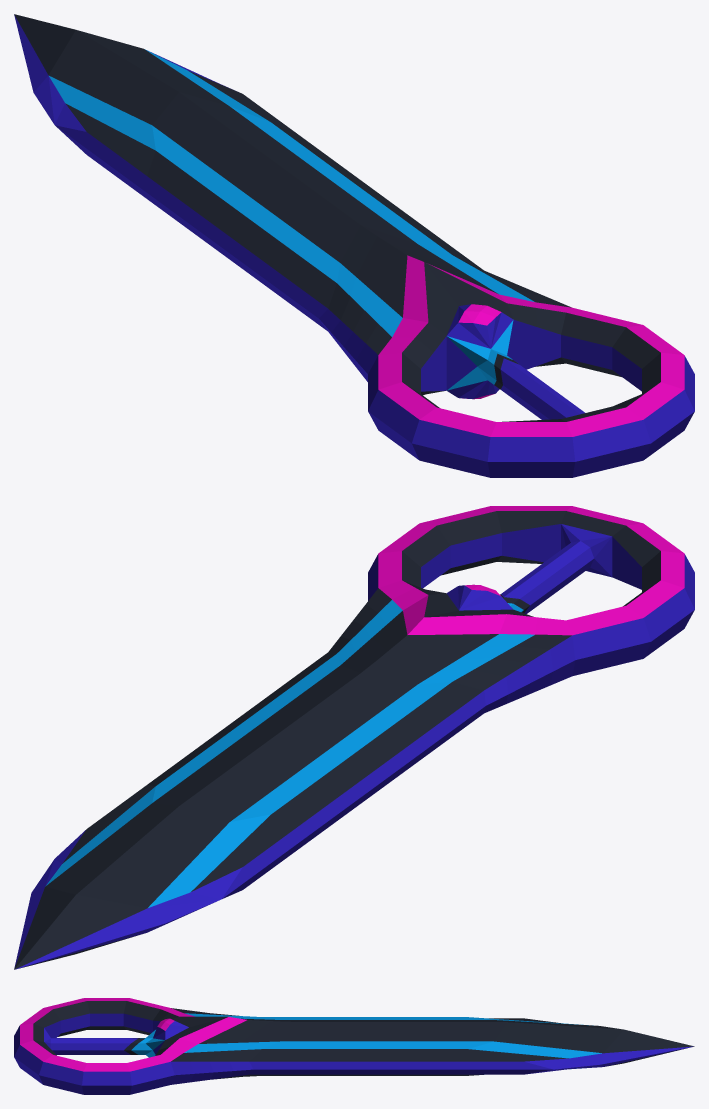
File: swordG1.fbx
3 renders of one model, top to bottom at view 1: azimuth 30°, elevation 25°; view 2: azimuth 150°, elevation 25°; view 3: azimuth 270°, elevation 25°, orthographic. The views are drawn at different scales.
Visible parts, largest first — view 1: Torus; view 2: Torus; view 3: Torus.
Part boxes in pixels (bbox=[...]): Torus: bbox=[14, 14, 694, 477]; Torus: bbox=[14, 506, 694, 969]; Torus: bbox=[14, 998, 694, 1094].
Size of the model in its own units: 352 by 124 by 1289.
